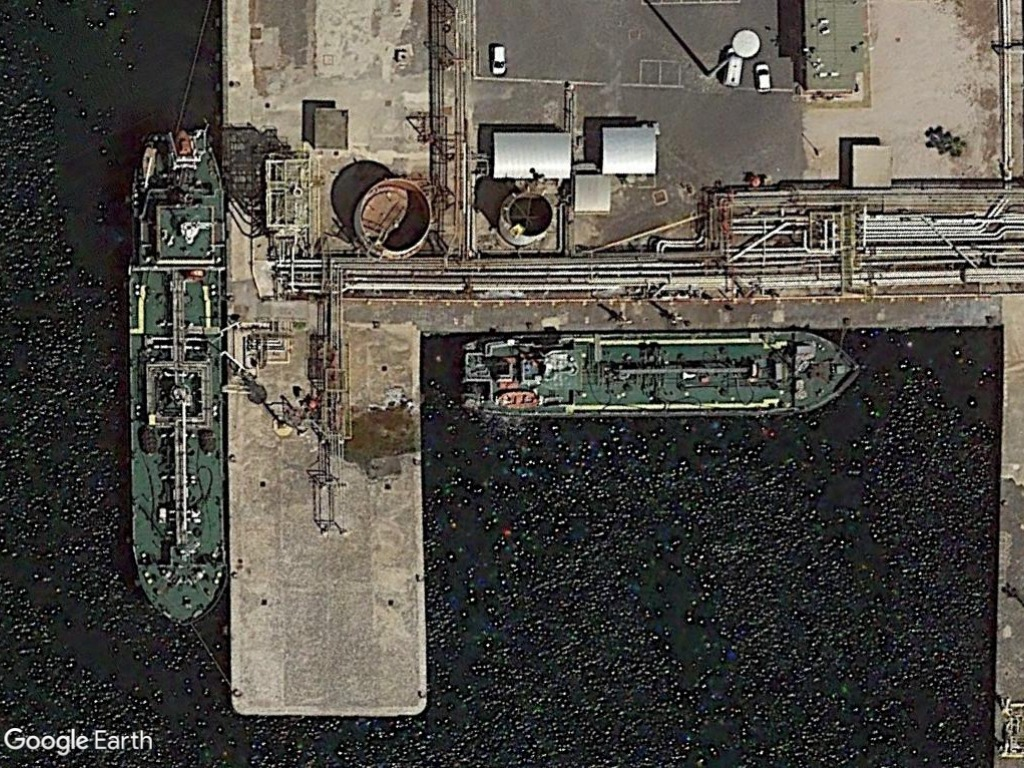boat: (126, 125, 232, 629), (455, 333, 869, 423)
